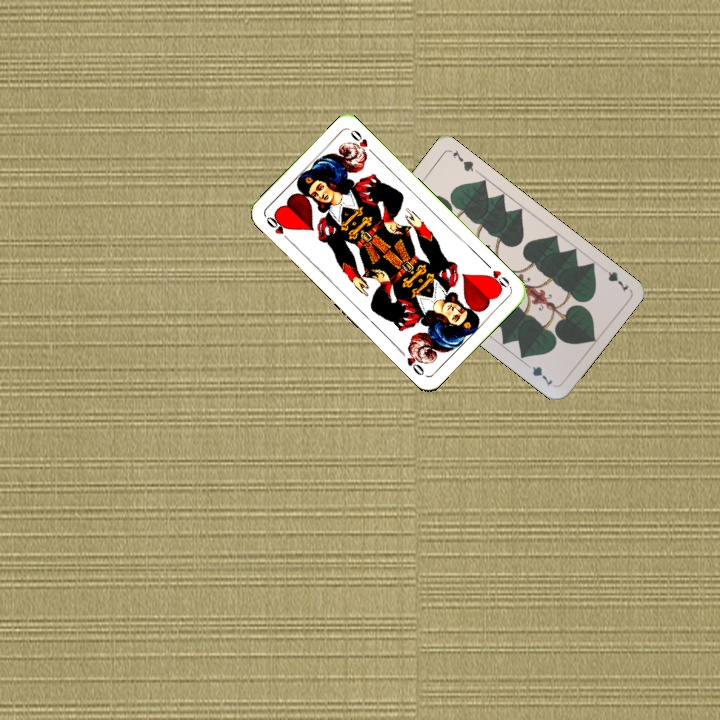G7: (596, 262, 631, 295)
HO: (481, 258, 513, 292), (262, 212, 294, 245)
